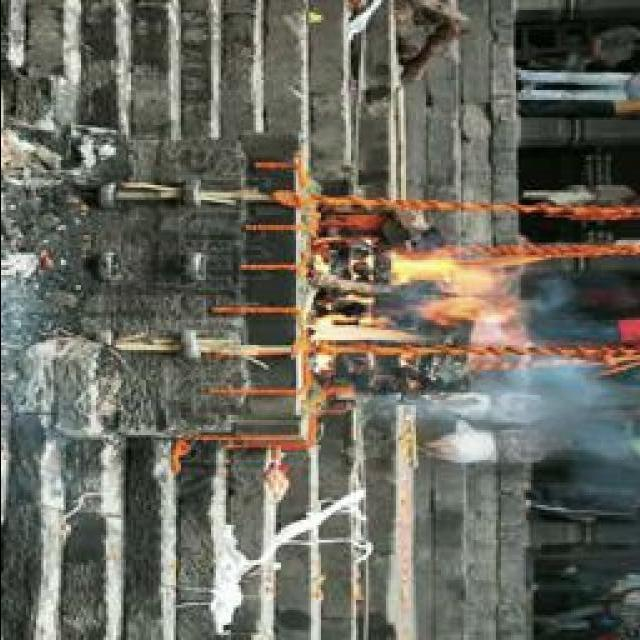Fire: (304, 241, 520, 346)
